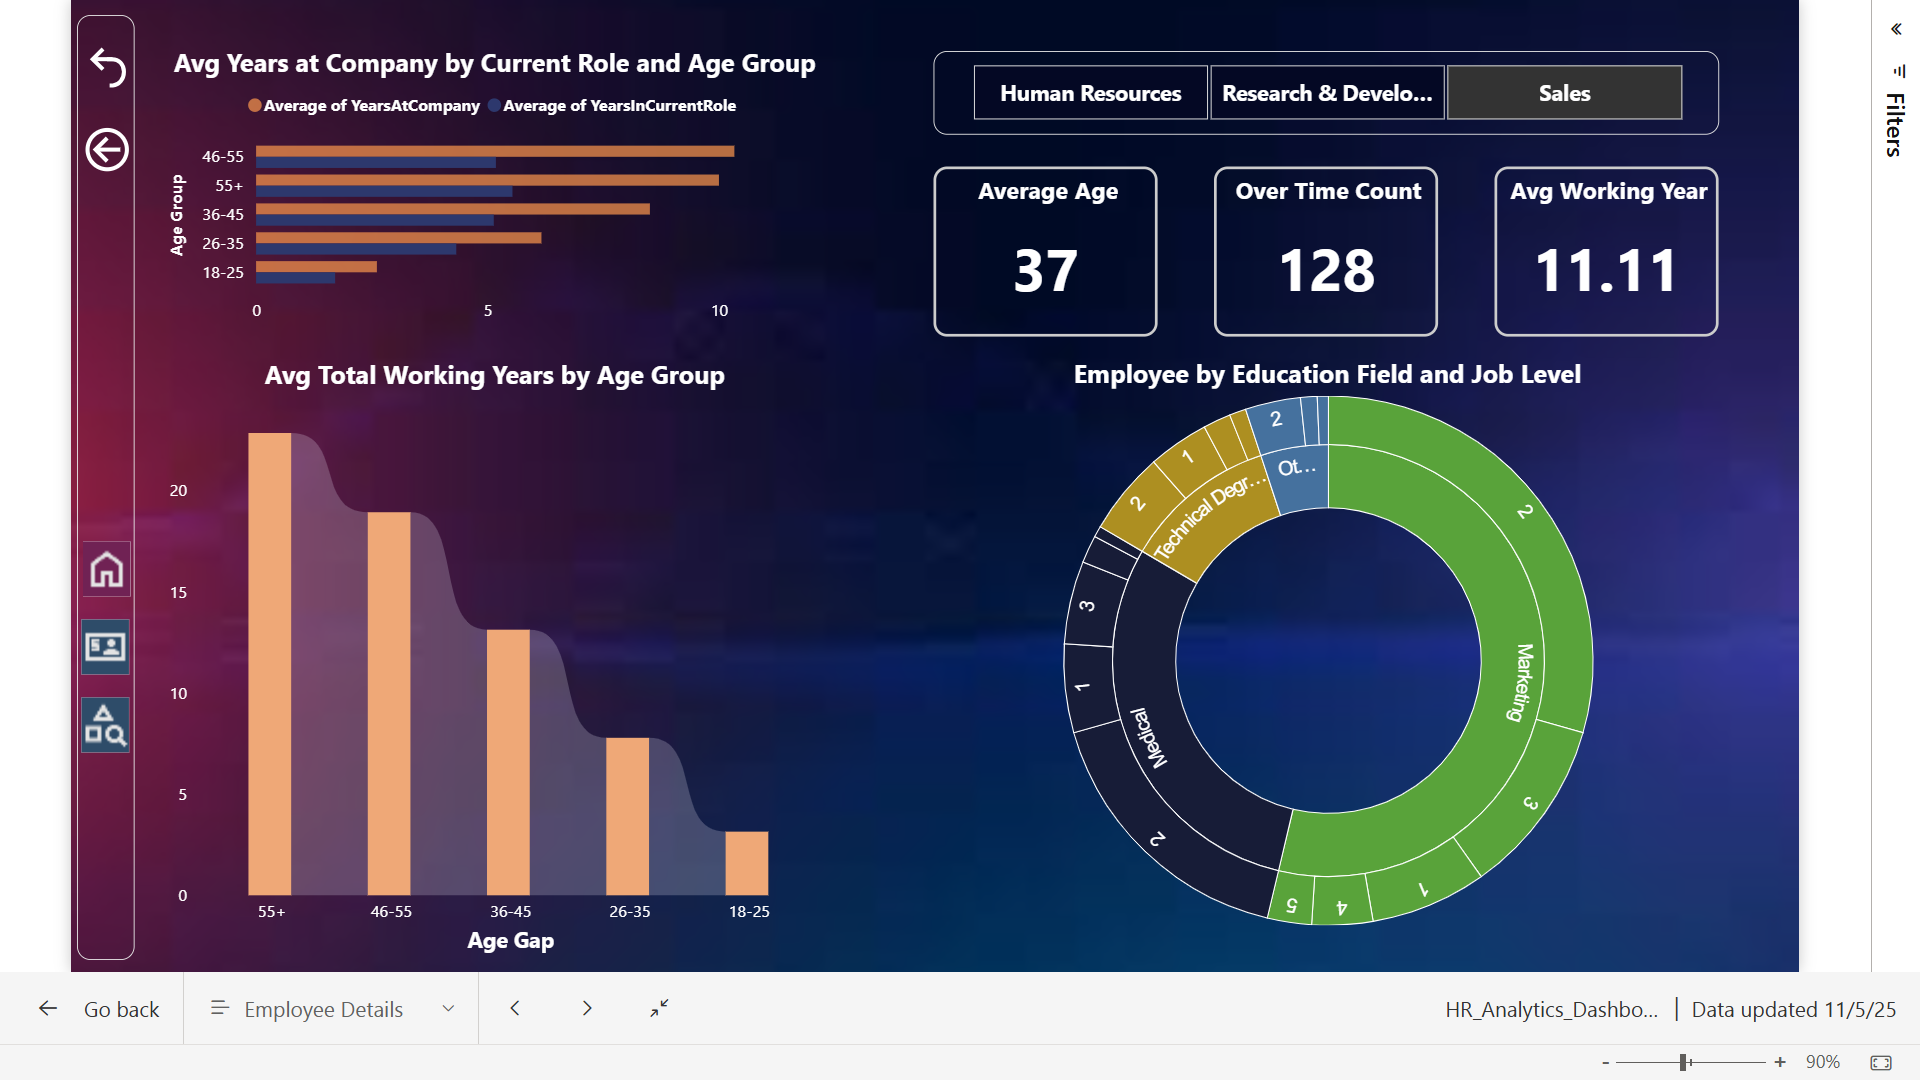

Layout of this report page (visuals, bound fields, positions):
{"tool":"powerbi","page":{"name":"Employee Details","canvas":[1280,720],"ordinal":2},"visuals":[{"type":"shape","box":[4.8,11.1,42.9,699.9],"z":0},{"type":"card","title":"Average Age","fields":{"Values":["Avg(Table1.Age)"]},"box":[639.4,123.1,166,126],"z":0,"group":"g1"},{"type":"actionButton","box":[9.4,401,35.2,40.6],"z":0,"group":"g3"},{"type":"group","id":"g1","title":"Group 1","box":[639.4,123.1,582,126],"z":1000,"group":"g2"},{"type":"card","title":"Over Time Count","fields":{"Values":["CountNonNull(Table1.OverTime)"]},"box":[847.4,123.1,166,126],"z":1000,"group":"g1"},{"type":"ribbonChart","title":"Avg Total Working Years by Age Group","fields":{"Category":["Table1.AgeGroup"],"Y":["Avg(Table1.TotalWorkingYears)"]},"box":[67.5,264.1,492.4,446.7],"z":1000},{"type":"actionButton","box":[8.1,458.7,35.2,40.6],"z":1000,"group":"g3"},{"type":"clusteredBarChart","title":"Avg Years at Company by Current Role and Age Group","fields":{"Category":["Table1.AgeGroup"],"Y":["Avg(Table1.YearsAtCompany)","Avg(Table1.YearsInCurrentRole)"]},"box":[67.5,33.8,492.4,214.4],"z":2000},{"type":"card","title":"Avg Working Year","fields":{"Values":["Avg(Table1.TotalWorkingYears)"]},"box":[1055.4,123.1,166,126],"z":2000,"group":"g1"},{"type":"actionButton","box":[8.1,516.3,35.2,40.6],"z":2000,"group":"g3"},{"type":"actionButton","box":[8,30.2,39.8,39.8],"z":3000},{"type":"actionButton","box":[6.1,85.1,42.5,50.6],"z":4000},{"type":"group","id":"g2","title":"Group 2","box":[639.3,123.1,583.8,567],"z":5000},{"type":"Sunburst1445472000808","title":"Employee by Education Field and Job Level","fields":{"Nodes":["Table1.EducationField","Table1.JobLevel"],"Values":["CountNonNull(Table1.EmployeeCount)"]},"box":[639.3,263.2,583.8,426.9],"z":5000,"group":"g2"},{"type":"group","id":"g3","title":"Group 1","box":[8.1,401,34.4,155.9],"z":6000},{"type":"slicer","fields":{"Values":["Table1.Department"]},"box":[639.4,38.2,582.2,62],"z":7000}]}

Visuals, with their boxes on the page's 1280x720 design canvas (x1, y1, x2, y2). These are canvas units, not pixel positions in the 1920x1080 screenshot, which may show the page scaled, cropped or inside an application window:
shape: (5,11,48,711)
"Average Age" card: (639,123,805,249)
actionButton: (9,401,45,442)
"Group 1" group: (639,123,1221,249)
"Over Time Count" card: (847,123,1013,249)
"Avg Total Working Years by Age Group" ribbonChart: (68,264,560,711)
actionButton: (8,459,43,499)
"Avg Years at Company by Current Role and Age Group" clusteredBarChart: (68,34,560,248)
"Avg Working Year" card: (1055,123,1221,249)
actionButton: (8,516,43,557)
actionButton: (8,30,48,70)
actionButton: (6,85,49,136)
"Group 2" group: (639,123,1223,690)
"Employee by Education Field and Job Level" Sunburst1445472000808: (639,263,1223,690)
"Group 1" group: (8,401,42,557)
slicer - Table1.Department: (639,38,1222,100)
